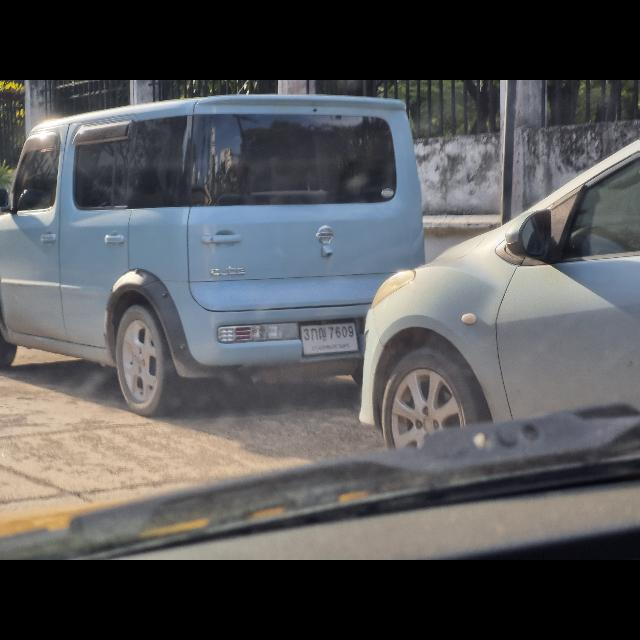licenseplate: (299, 316, 361, 358)
